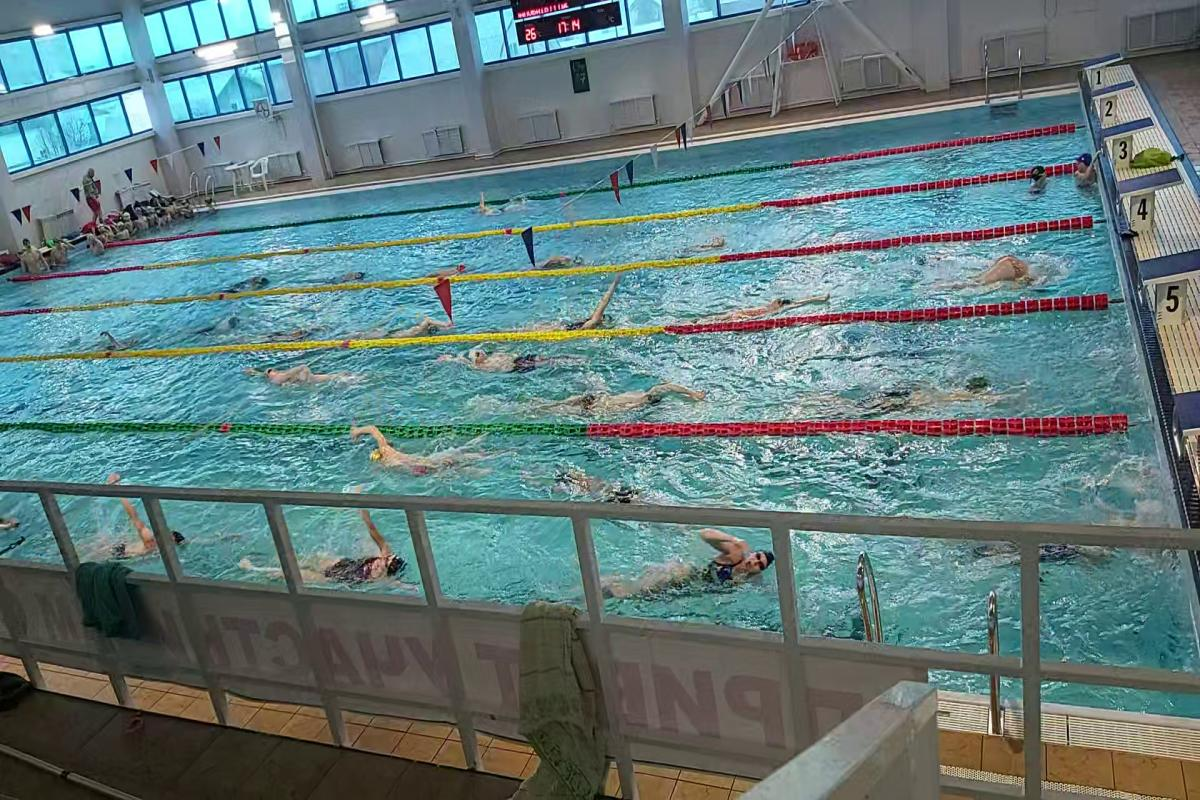swimmer: (610, 531, 772, 616), (242, 528, 409, 595), (856, 360, 1018, 418), (352, 428, 480, 480), (556, 382, 708, 422), (83, 504, 187, 562), (553, 463, 696, 504), (954, 243, 1050, 297), (247, 357, 376, 395), (434, 348, 575, 376), (722, 287, 832, 317), (550, 290, 622, 329), (367, 316, 452, 337), (534, 242, 590, 268), (1022, 164, 1059, 200)
